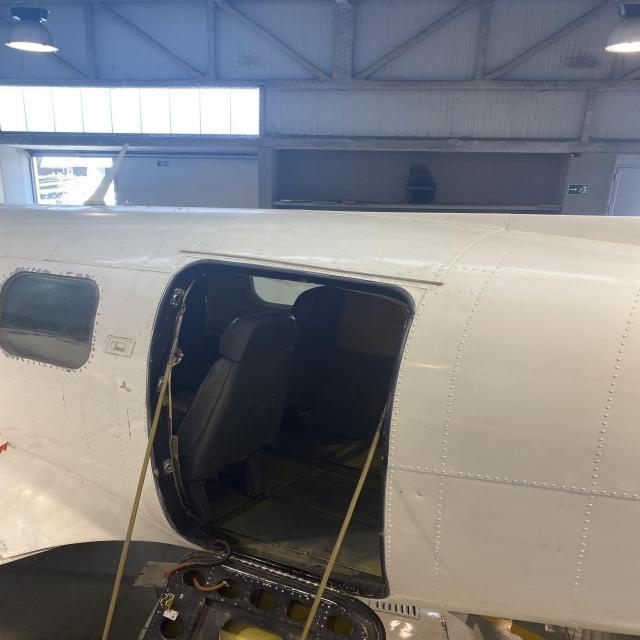Dent: (411, 487, 427, 499)
